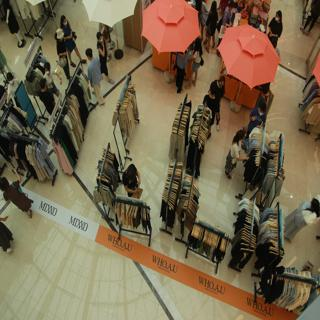person: (85, 45, 108, 111), (227, 121, 245, 183), (52, 27, 77, 62), (121, 158, 144, 195)
